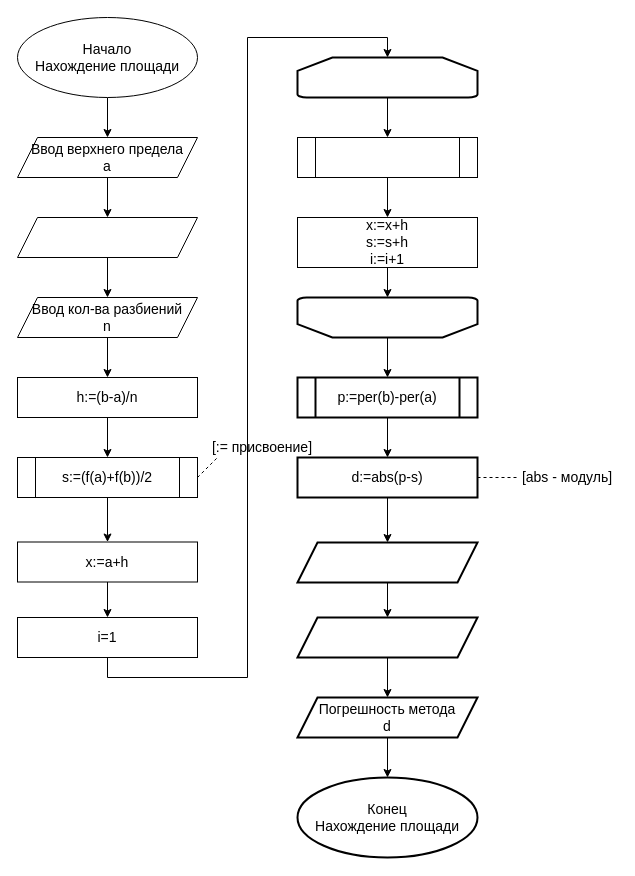
The diagram is 635 pixels wide and 876 high, and some of its shapes have lost their labels. The shapes that lost their labels are listed below. From the top down, each one's centre as x and y in pixels, then its label:
At point (387, 77): "Цикл 1 i>=n-1".
At point (387, 157): "s:=s+f(x)".
At point (107, 237): "Ввод нижнего предела b".
At point (387, 317): "Цикл 1".
At point (387, 562): "Точное значение p".
At point (387, 637): "Приближенное значение s".
